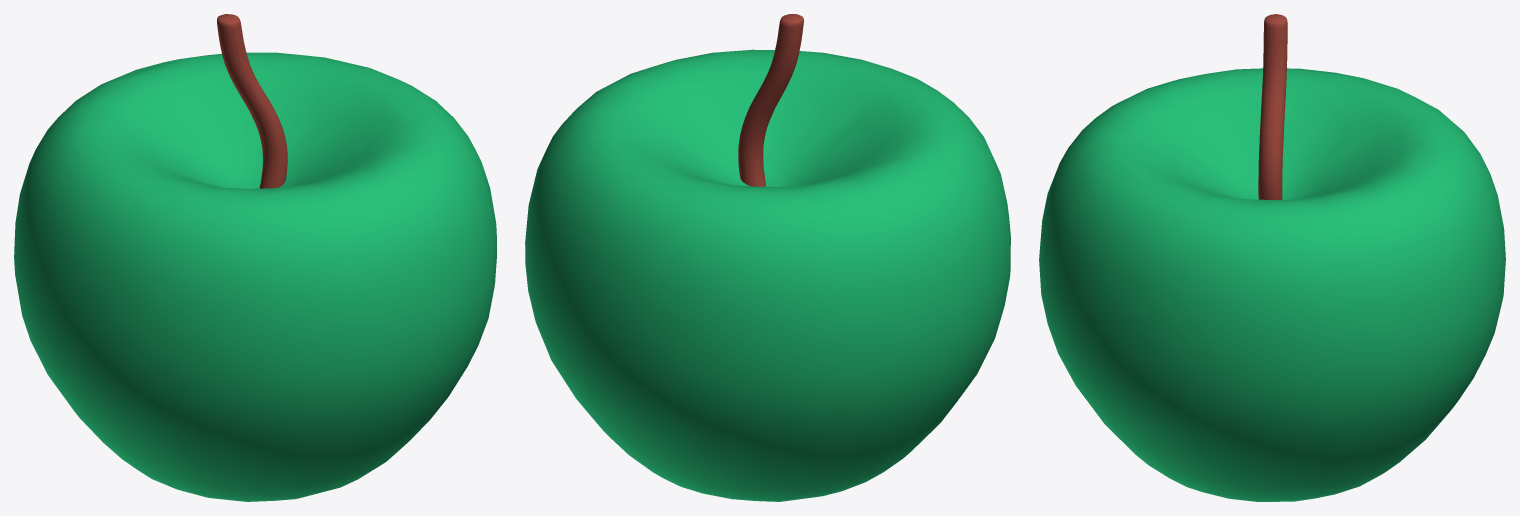
The model's file is apple1.glb.
The picture shows the model from 3 angles, left to right: view 1: azimuth 30°, elevation 25°; view 2: azimuth 150°, elevation 25°; view 3: azimuth 270°, elevation 25°; orthographic projection. The views are drawn at different scales.
Visible parts, largest first — view 1: Sphere.002, Cylinder.002; view 2: Sphere.002, Cylinder.002; view 3: Sphere.002, Cylinder.002.
Part boxes in pixels (left/top/right/bottom): Sphere.002: left=14, top=52, right=496, bottom=501; Cylinder.002: left=217, top=14, right=287, bottom=188; Sphere.002: left=525, top=49, right=1010, bottom=501; Cylinder.002: left=738, top=14, right=803, bottom=186; Sphere.002: left=1039, top=68, right=1505, bottom=501; Cylinder.002: left=1258, top=14, right=1287, bottom=199.
Bounding box in the file's own units: 3.56 × 3.63 × 3.56.
2 materials, 2 textured.
